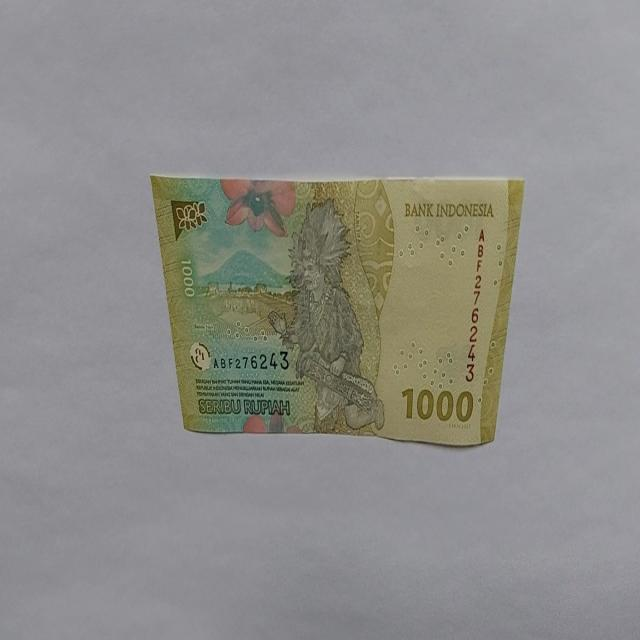seribu rupiah kertas: (150, 172, 524, 446), (270, 196, 384, 432)
